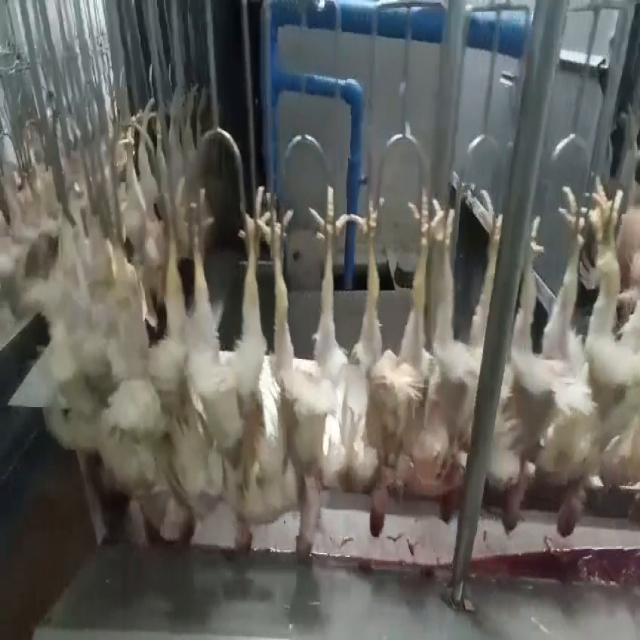chicken: (266, 183, 352, 562), (507, 183, 595, 545), (350, 189, 436, 541), (194, 172, 270, 552), (428, 198, 503, 528), (574, 176, 638, 487), (141, 180, 193, 544)
